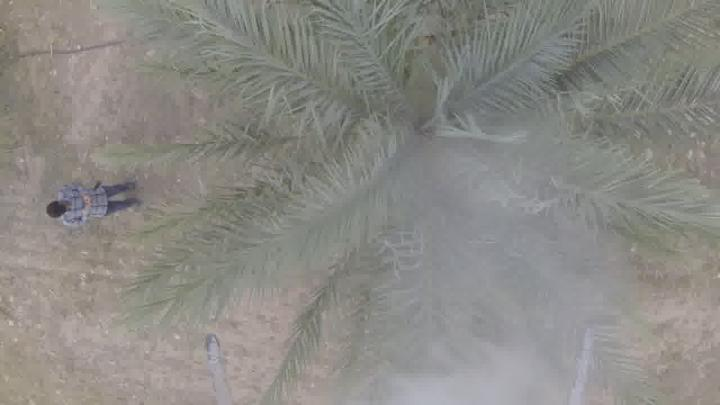Date-Palm-Crown: (232, 0, 630, 304)
